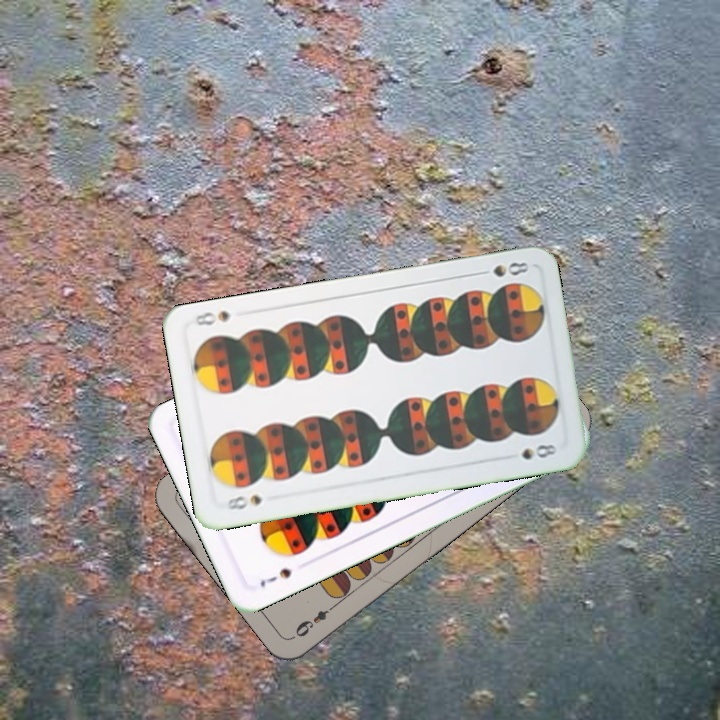E9: (290, 599, 340, 640)
S7: (256, 564, 294, 590)
S8: (473, 257, 532, 280), (223, 491, 265, 512)
